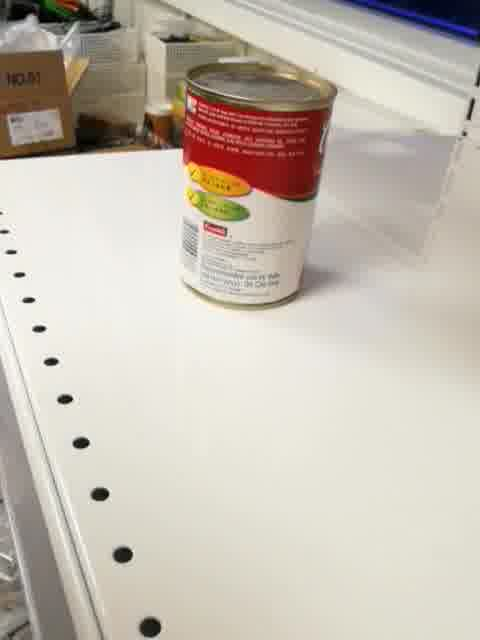tomatosoup: (178, 59, 338, 313)
